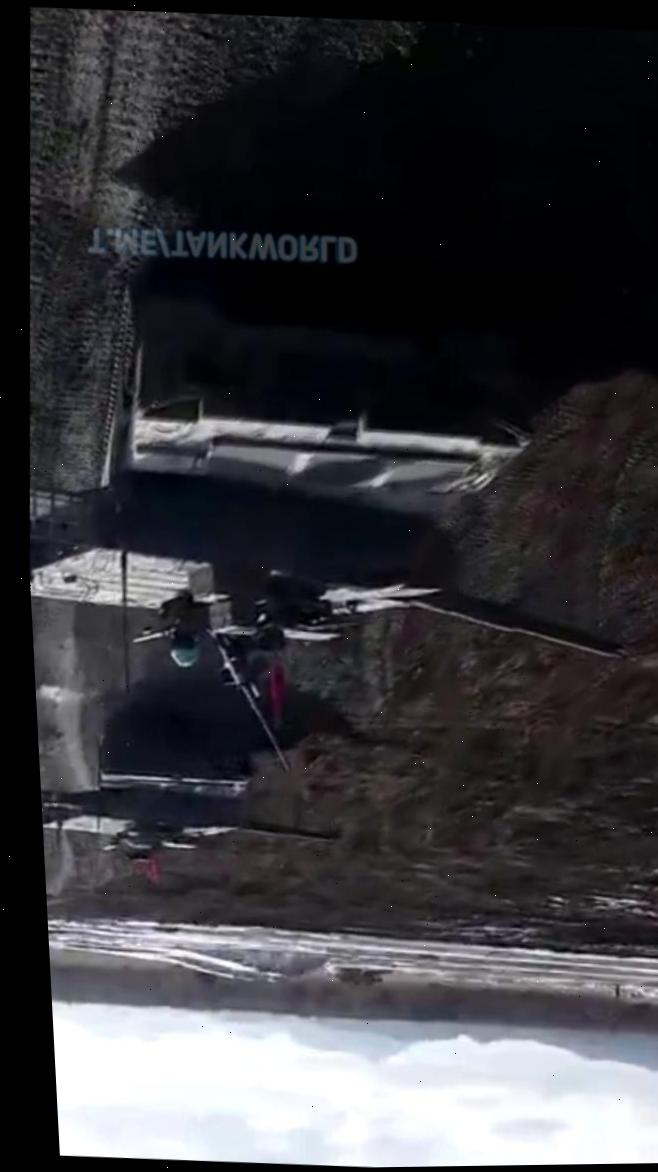tank: (14, 268, 646, 702), (37, 716, 353, 879)
